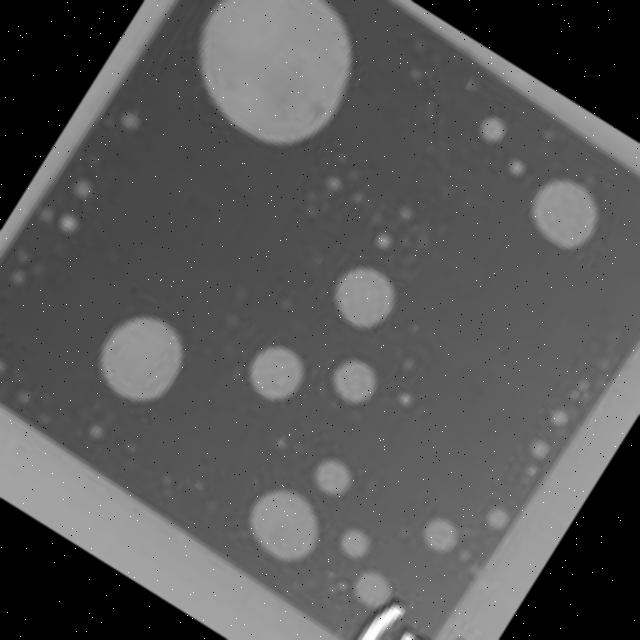chip: (0, 0, 640, 640)
void: (197, 0, 352, 144), (98, 315, 183, 400), (248, 488, 319, 561), (531, 177, 597, 249), (333, 265, 396, 327), (248, 344, 303, 400), (331, 358, 376, 402), (313, 458, 352, 495), (353, 570, 390, 607), (422, 516, 457, 553), (340, 528, 371, 557), (478, 114, 507, 142), (484, 506, 509, 528), (72, 177, 92, 198), (530, 438, 550, 458), (58, 212, 78, 232), (119, 110, 139, 128), (374, 230, 392, 248), (508, 157, 525, 175), (550, 409, 568, 425), (398, 391, 412, 406), (89, 423, 103, 438), (327, 176, 341, 189), (0, 361, 5, 374)
